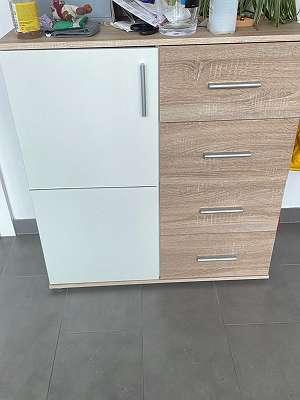cabinet_door: (18, 51, 155, 188), (34, 193, 157, 287), (159, 46, 298, 119), (159, 121, 296, 178), (160, 181, 281, 228), (158, 229, 271, 279)
handle: (204, 77, 263, 95), (197, 201, 245, 221), (201, 147, 256, 164), (196, 252, 239, 269), (139, 63, 149, 121)
